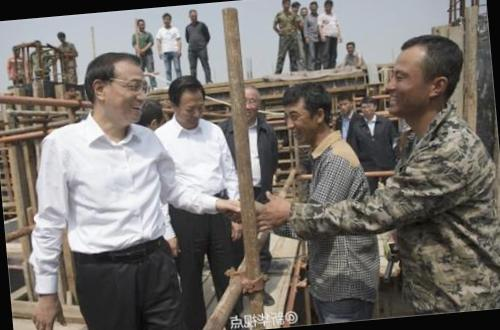no_helmet: (384, 28, 468, 120), (79, 46, 150, 128), (281, 78, 335, 144), (166, 73, 208, 128), (230, 84, 266, 125), (333, 89, 356, 118), (358, 94, 382, 120), (159, 9, 176, 30), (185, 7, 202, 24), (344, 40, 360, 57), (134, 15, 148, 34), (321, 0, 335, 15), (298, 4, 310, 20), (291, 0, 302, 17), (308, 0, 320, 15), (280, 0, 293, 11)
